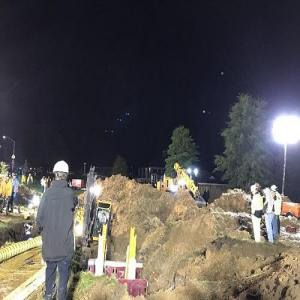white: (53, 160, 70, 183)
